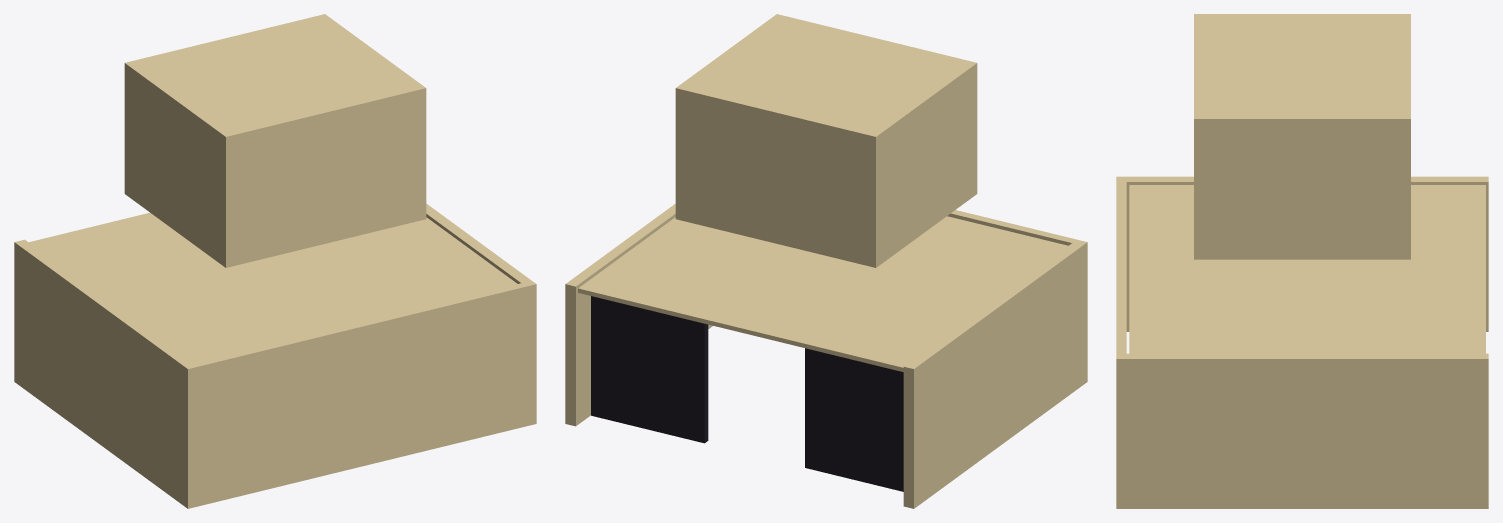
The model's file is KOL_T1_DAKSHINESHWAR__03_Main_Envelope.fbx.
The picture shows the model from 3 angles, left to right: view 1: azimuth 30°, elevation 25°; view 2: azimuth 150°, elevation 25°; view 3: azimuth 270°, elevation 25°; orthographic projection. The views are drawn at different scales.
Visible parts, largest first — view 1: KOL_T1_DAKSHINESHWAR__03_Main_Envelope__KOL_T1_TempleCream; view 2: KOL_T1_DAKSHINESHWAR__03_Main_Envelope__KOL_T1_TempleCream, KOL_T1_DAKSHINESHWAR__03_Main_Envelope__KOL_T1_TempleDark; view 3: KOL_T1_DAKSHINESHWAR__03_Main_Envelope__KOL_T1_TempleCream.
Part boxes in pixels (x1,y1,x2,y2): KOL_T1_DAKSHINESHWAR__03_Main_Envelope__KOL_T1_TempleCream: (14,14,536,508); KOL_T1_DAKSHINESHWAR__03_Main_Envelope__KOL_T1_TempleCream: (565,14,1087,508); KOL_T1_DAKSHINESHWAR__03_Main_Envelope__KOL_T1_TempleDark: (591,296,903,491); KOL_T1_DAKSHINESHWAR__03_Main_Envelope__KOL_T1_TempleCream: (1116,14,1488,508).
Size of the model in its own units: 83.5 by 75 by 72.
